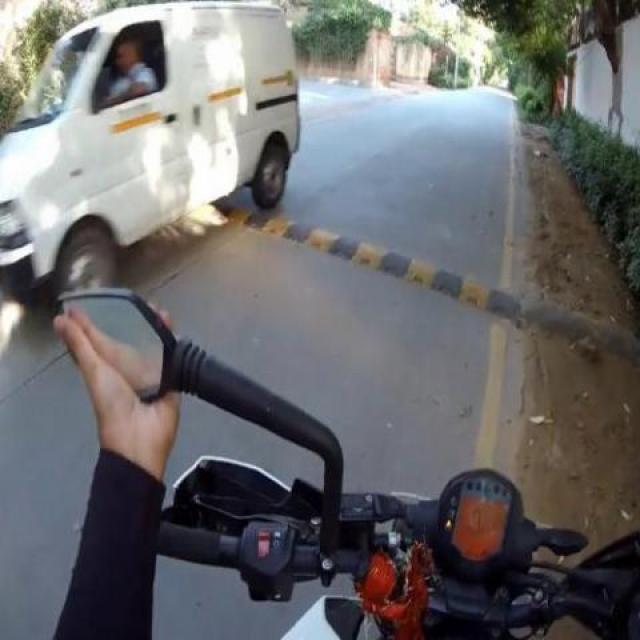Speed Bump: (221, 204, 524, 324)
Unmarked Bump: (528, 301, 640, 364)
